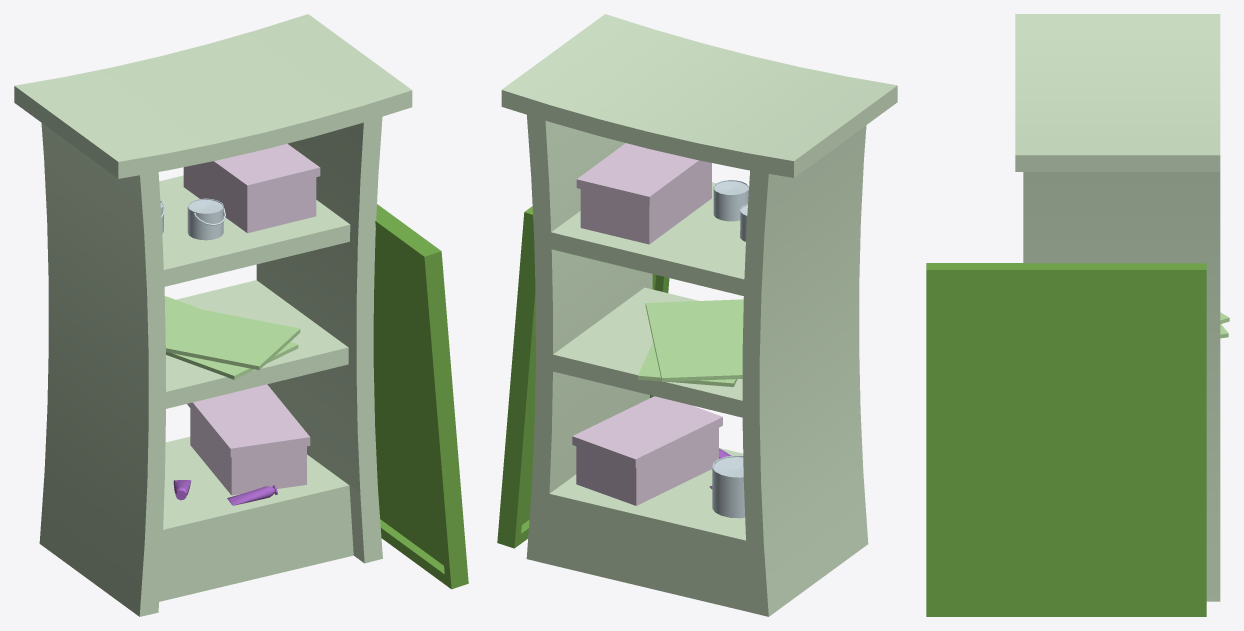
Rendered from étagère.glb.
3 views of the same model, side by side, from view 1: azimuth 30°, elevation 25°; view 2: azimuth 150°, elevation 25°; view 3: azimuth 270°, elevation 25° (orthographic).
Parts seen in each view (by area): view 1: Object002, tableau, boite, boite001, papier (×2), tube002; view 2: Object002, boite, boite001, tableau, papier (×2), tube, tube002; view 3: tableau, Object002.
Boxes of the visible parts, left/top/right/bottom form: Object002: left=14, top=14, right=412, bottom=616; tableau: left=373, top=204, right=468, bottom=589; boite: left=187, top=384, right=310, bottom=495; boite001: left=183, top=143, right=320, bottom=233; papier (×2): left=164, top=296, right=300, bottom=379; tube002: left=187, top=198, right=225, bottom=240; Object002: left=501, top=14, right=897, bottom=616; boite: left=572, top=396, right=722, bottom=505; boite001: left=576, top=143, right=711, bottom=244; tableau: left=497, top=206, right=669, bottom=548; papier (×2): left=638, top=299, right=743, bottom=386; tube: left=712, top=455, right=745, bottom=518; tube002: left=713, top=180, right=748, bottom=221; tableau: left=926, top=263, right=1206, bottom=616; Object002: left=1015, top=14, right=1220, bottom=601.
Size of the model in its own units: 0.793 by 1.16 by 0.6923.
